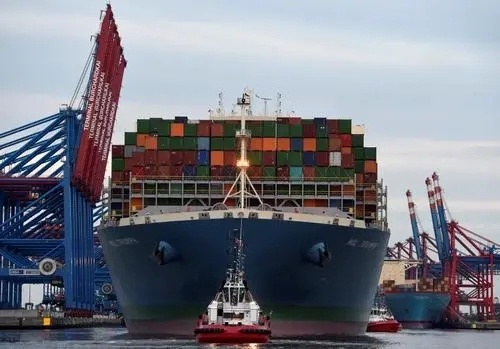Cargoship: (107, 100, 389, 343)
otherboat: (184, 238, 277, 344), (373, 292, 402, 337)
